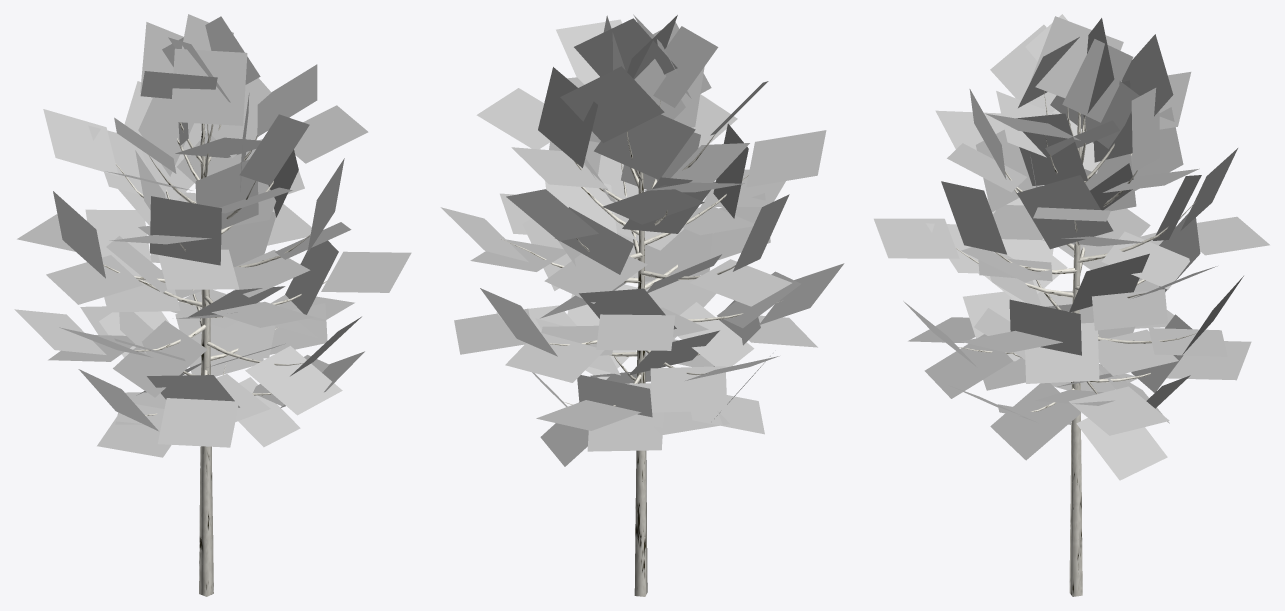
File: birch_tree.fbx
3 views of the same model, side by side, from view 1: azimuth 30°, elevation 25°; view 2: azimuth 150°, elevation 25°; view 3: azimuth 270°, elevation 25° (orthographic). The views are drawn at different scales.
Parts seen in each view (by area): view 1: leaves, birch_tree; view 2: leaves, birch_tree; view 3: leaves, birch_tree.
Boxes of the visible parts, x1=… form: leaves: x1=14, y1=14, x2=411, y2=457; birch_tree: x1=103, y1=122, x2=326, y2=596; leaves: x1=440, y1=14, x2=844, y2=466; birch_tree: x1=501, y1=100, x2=781, y2=596; leaves: x1=874, y1=14, x2=1269, y2=480; birch_tree: x1=956, y1=91, x2=1196, y2=596.
Bounding box in the file's own units: 923 × 1538 × 964.
